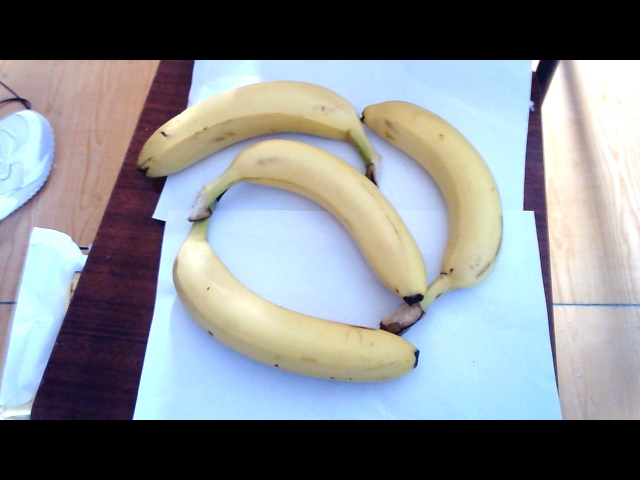banana: (142, 70, 506, 300), (111, 255, 407, 379)
